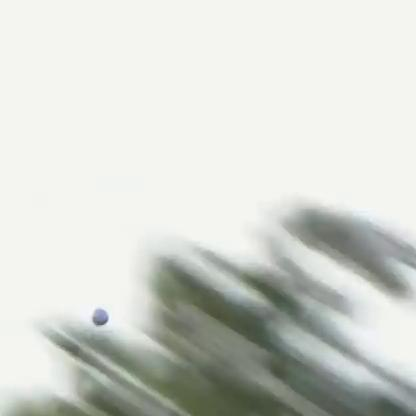golfball: (91, 305, 109, 324)
